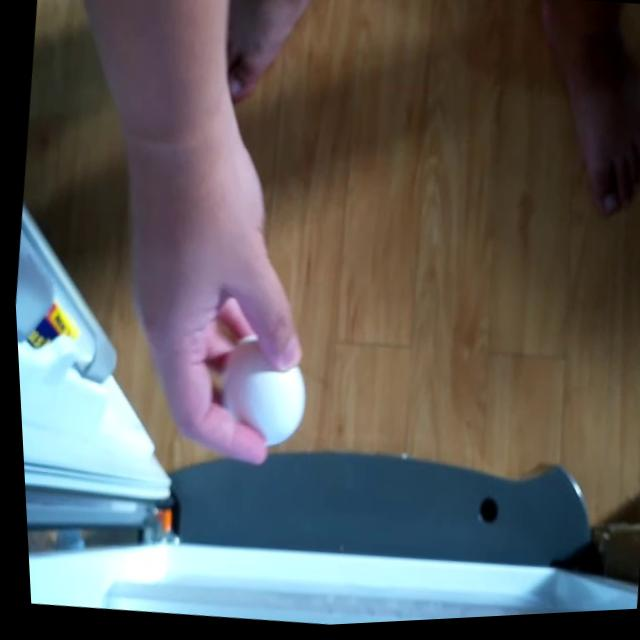egg: (206, 332, 310, 455)
